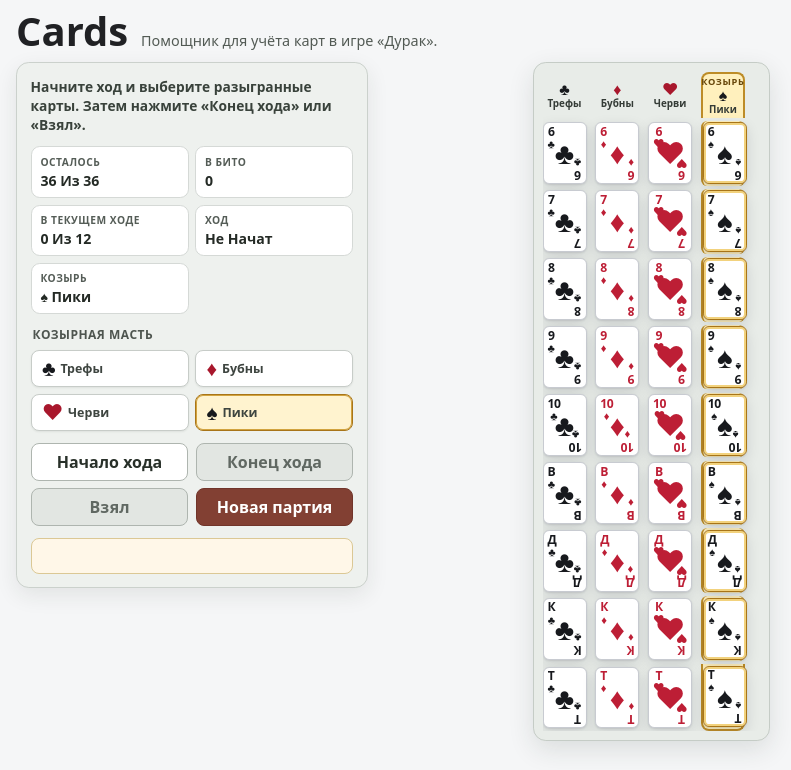
Scenario: App turn scenarios › returns selected cards to play when somebody takes them
What coordinates should you click on to do the following:
click the button "6 ♣ ♣ 6 ♣"
I would click on:
 (564, 153)
Its box is top-left (542, 122), bottom-right (586, 184).
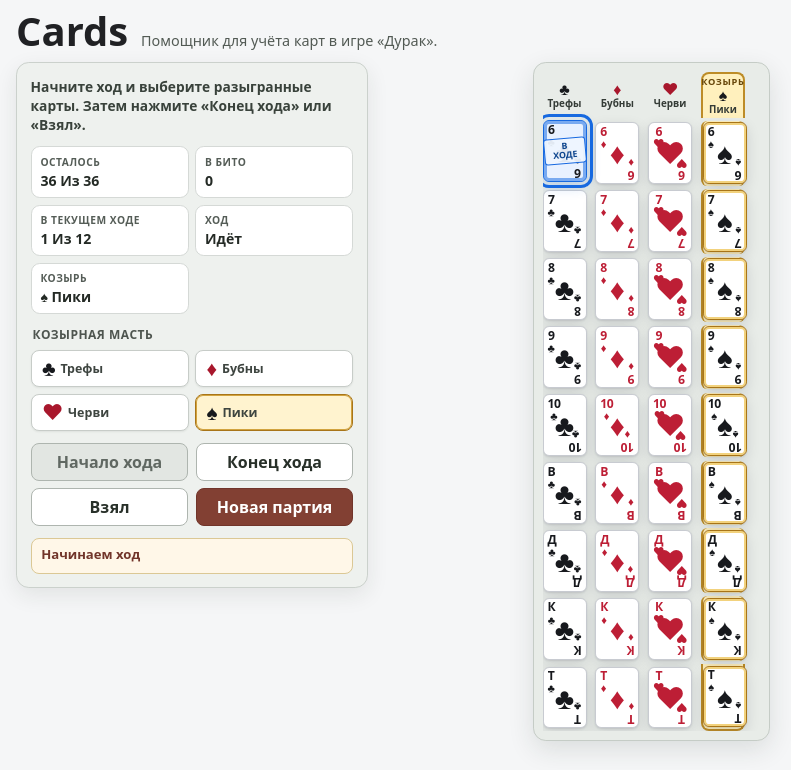
Now the button "6 ♣ ♣ 6 ♣ В ходе" is pressed, box top-left (542, 120), bottom-right (586, 182)
What coordinates should you click on to do the following:
click the button "Взял"
I would click on:
 (110, 507)
Its box is top-left (31, 488), bottom-right (188, 526).
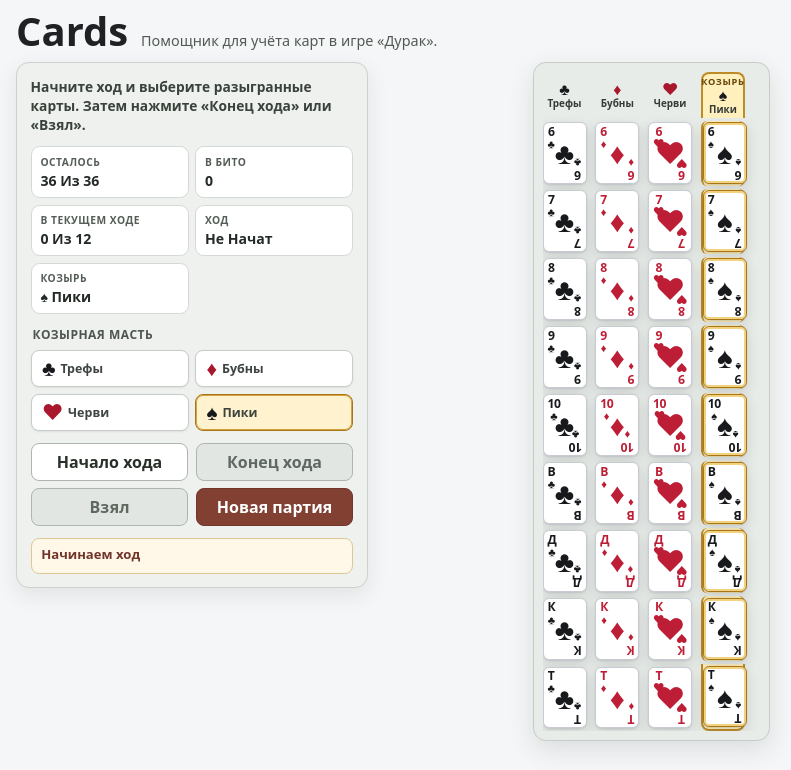
Expected: the text "0" is shown, top-left (205, 171), bottom-right (213, 190)
Now the text "0 из 12" is shown, box top-left (40, 229), bottom-right (91, 248)
